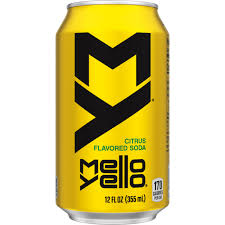can: (56, 1, 170, 224)
